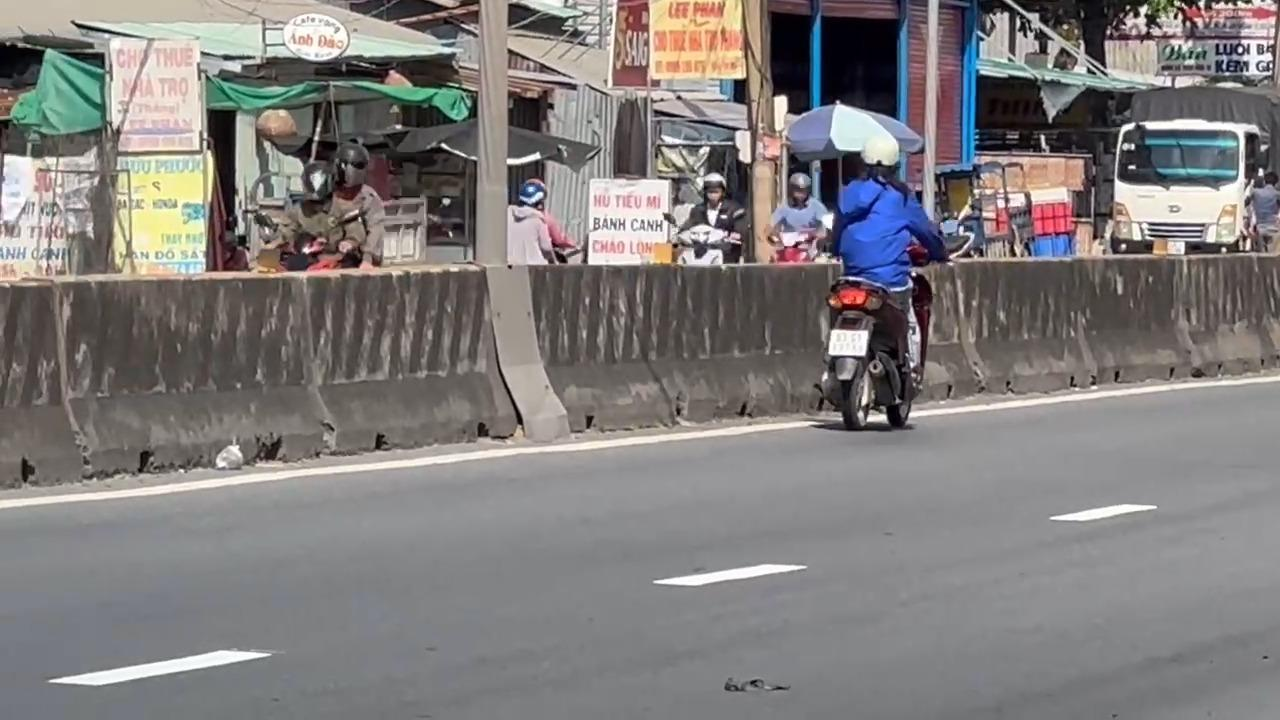bien_so: (826, 327, 870, 357)
